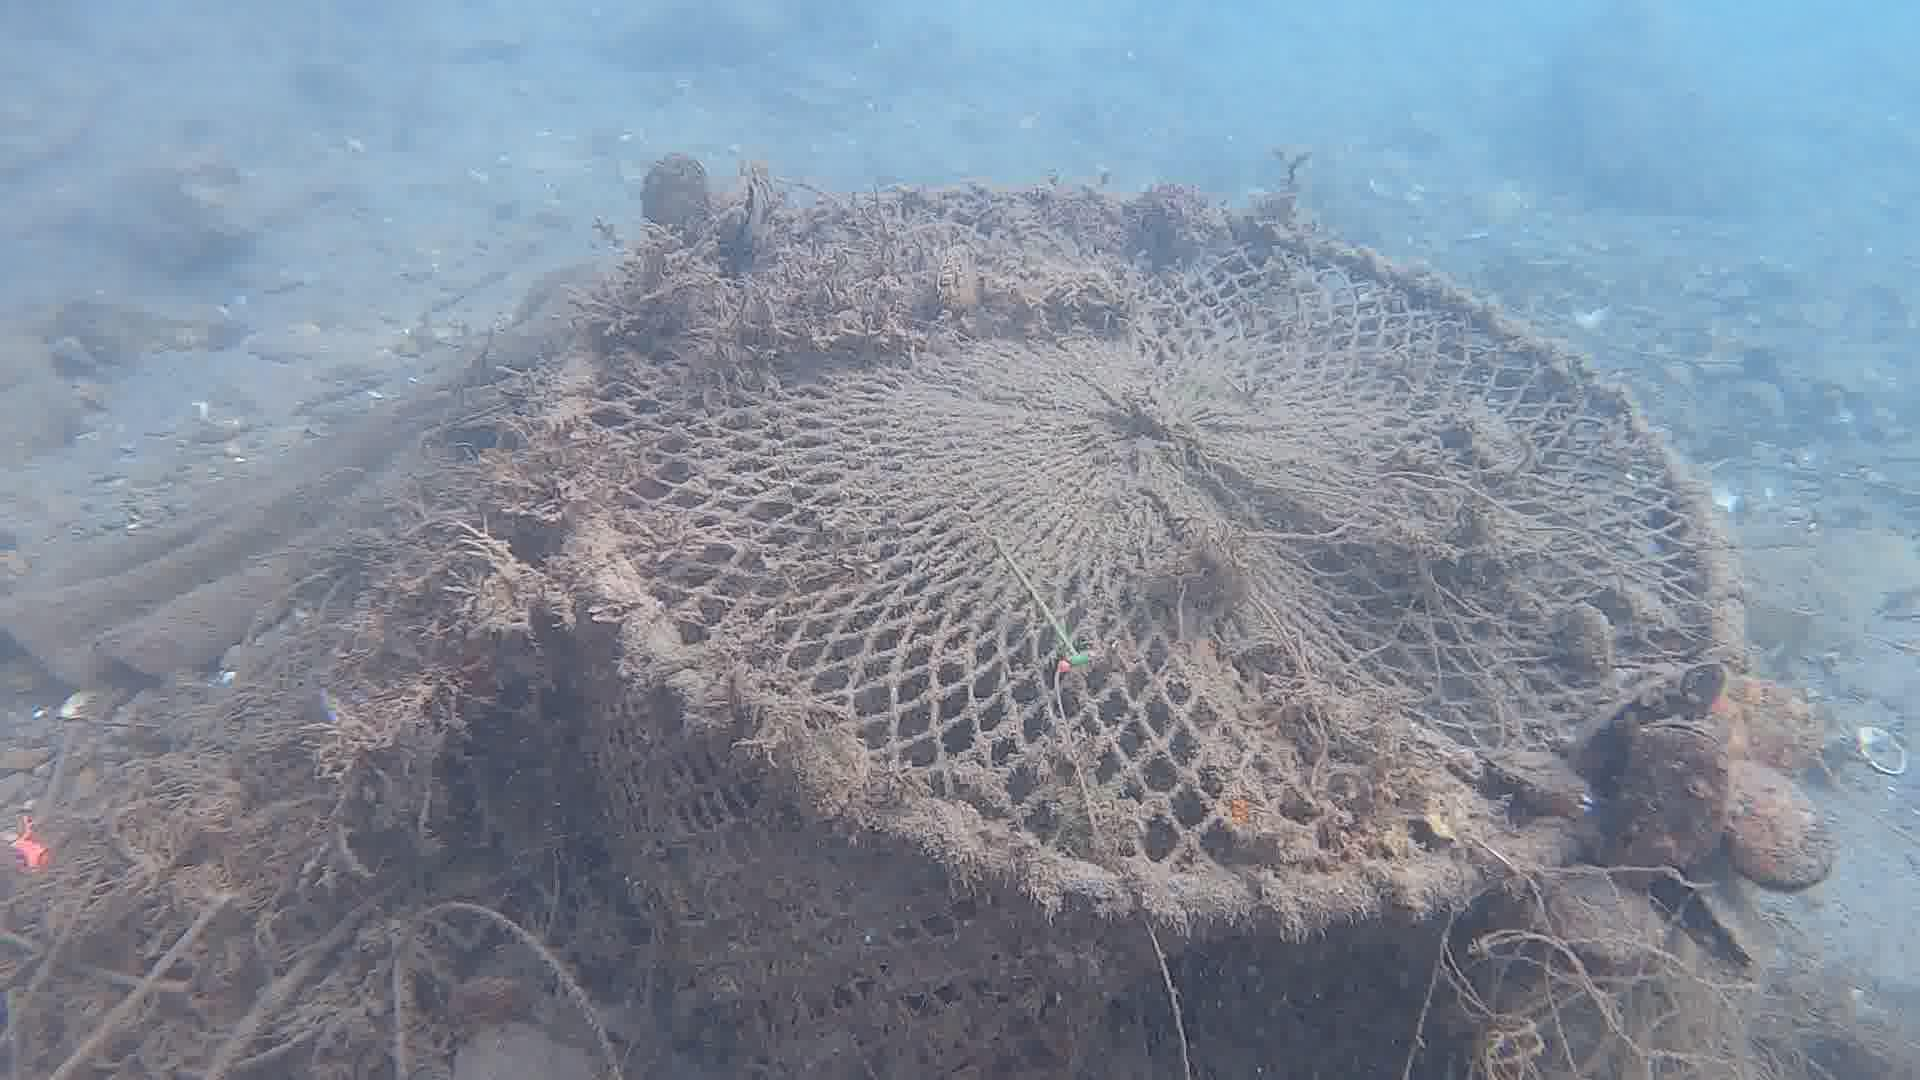circular fish trap: (542, 185, 1746, 1080)
